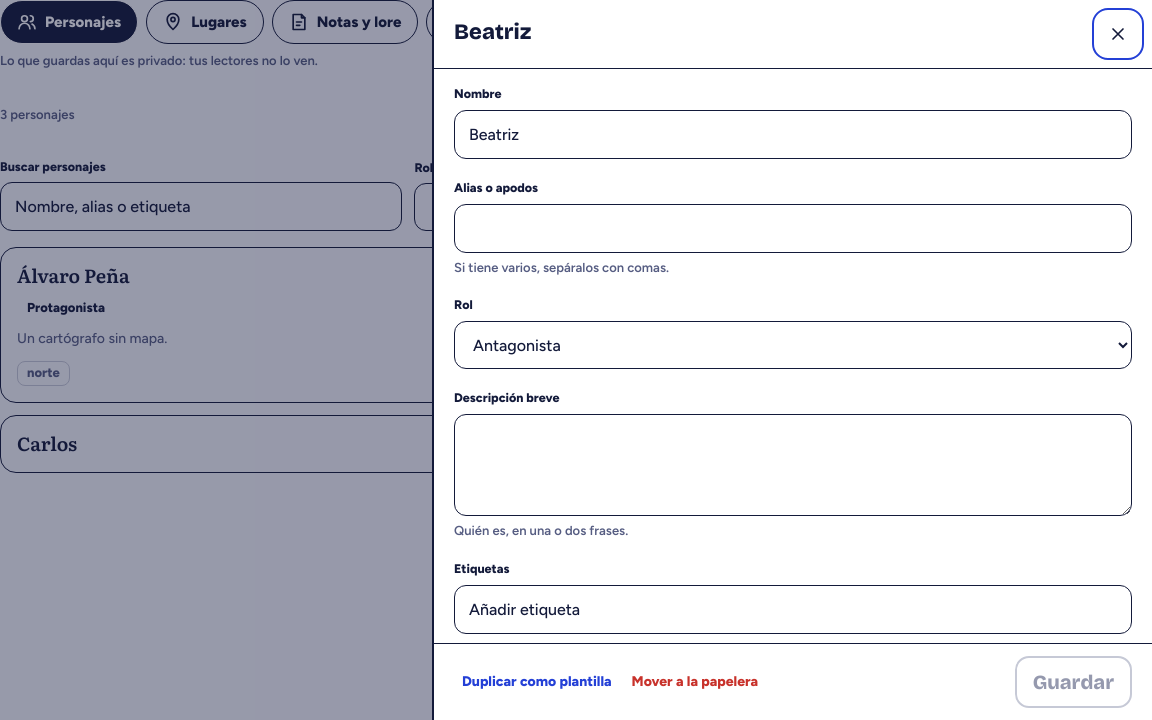
Universe · characters › saves with the entity revision and shows the canonical answer
The width and height of the screenshot is (1152, 720).
Expected: the button "Guardar" is disabled, x1=1015 y1=656 x2=1132 y2=708
Replace the text in the field labelled "Nombre" with "Beatriz Ríos " at (793, 134), box x1=454 y1=110 x2=1132 y2=159
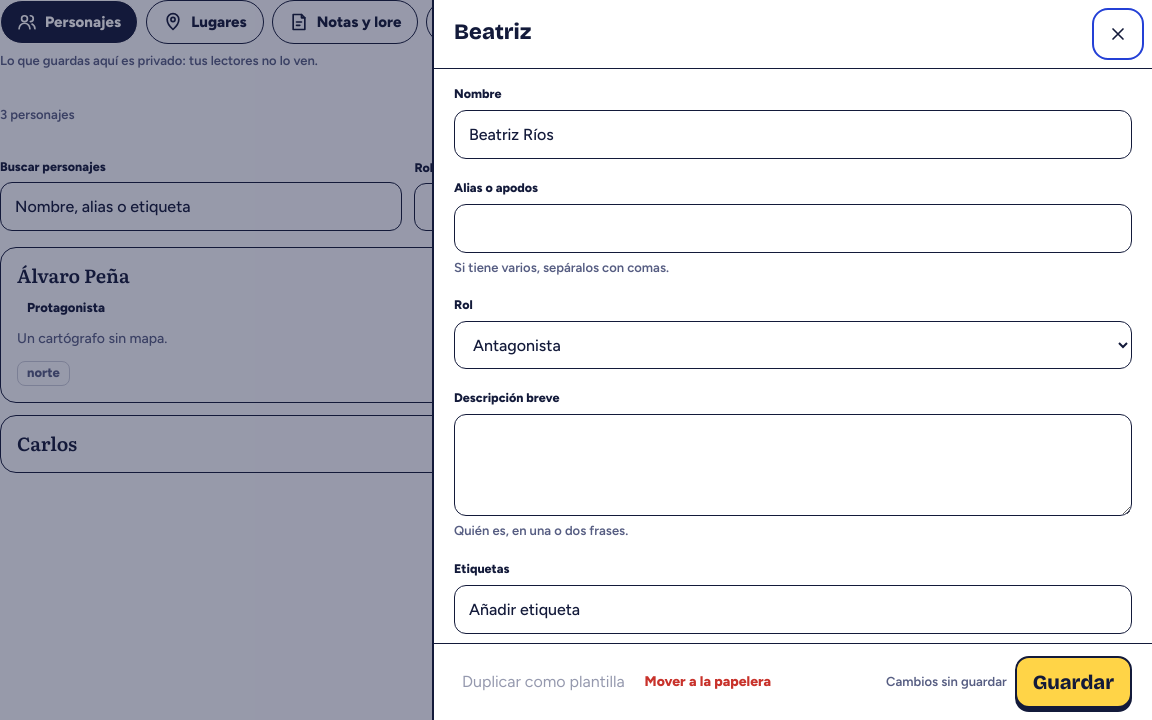
Now the button "Guardar" is enabled
Click the button "Guardar" at (1073, 682), box x1=1015 y1=656 x2=1132 y2=708
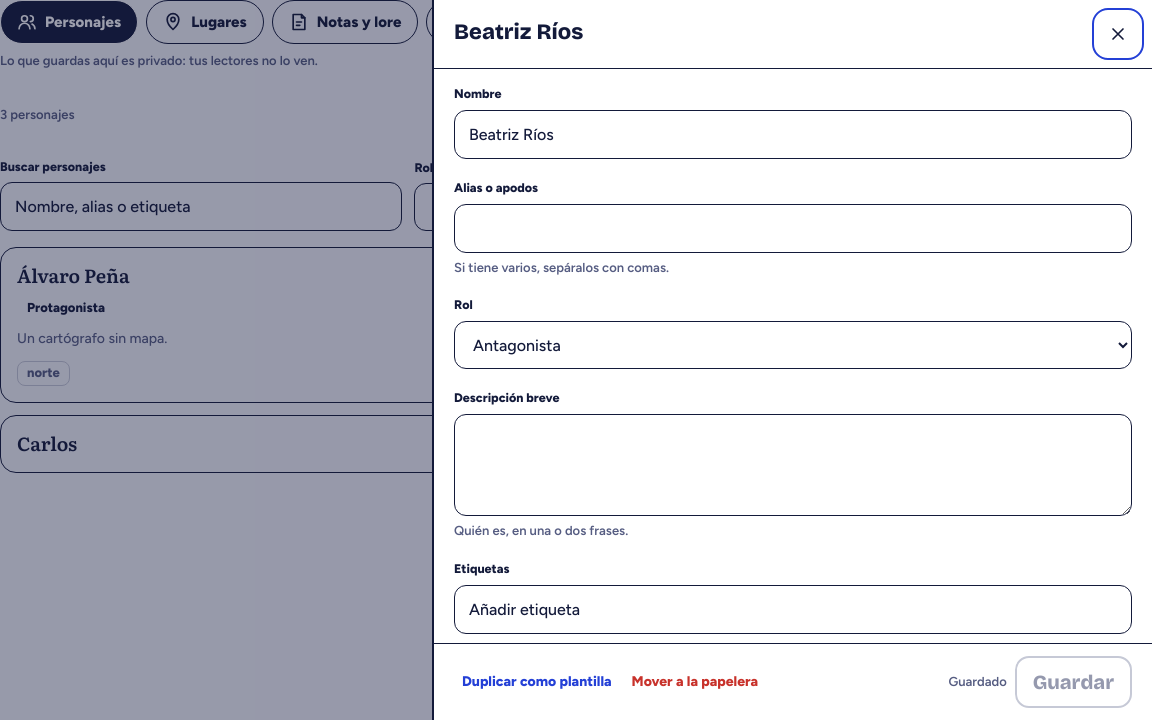
Now the text "Guardado" is shown, box x1=948 y1=673 x2=1007 y2=691
Now the button "Guardar" is disabled, box x1=1015 y1=656 x2=1132 y2=708
